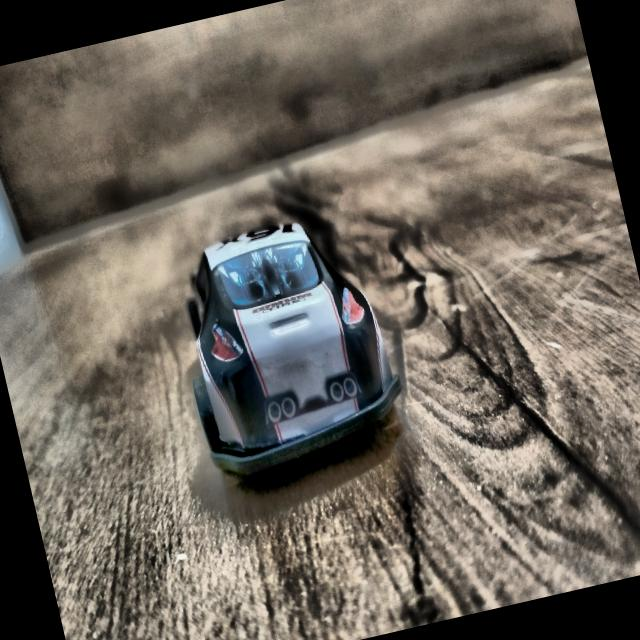Car: (150, 198, 427, 506)
